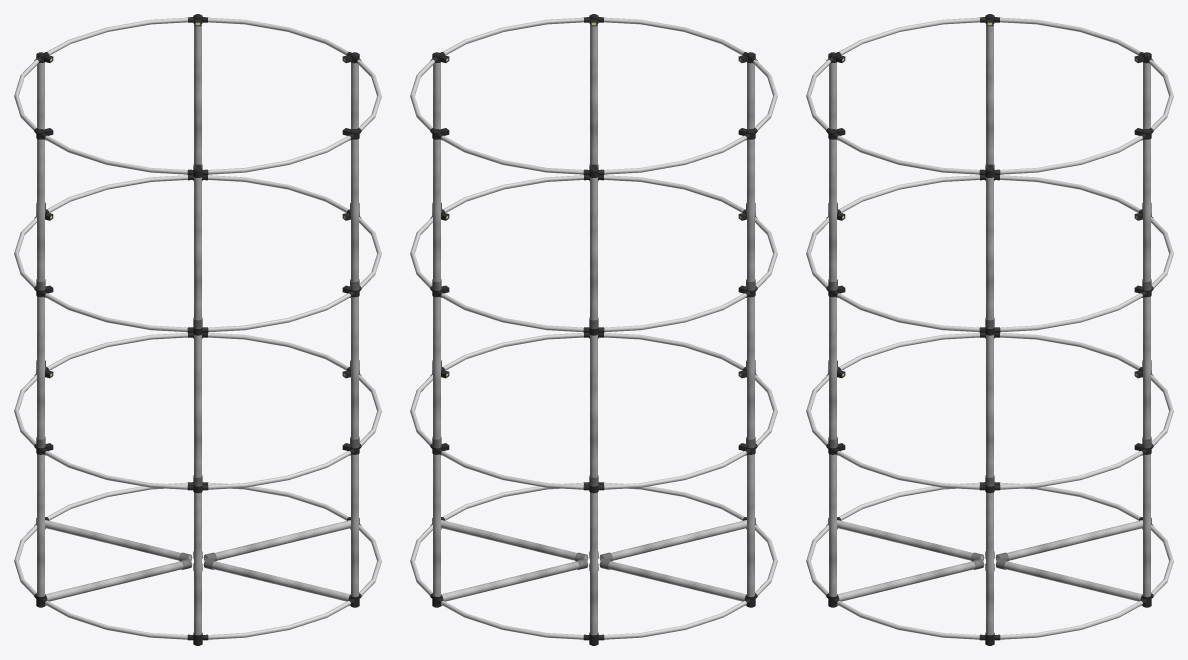
Rendered from SkydockExtended.FBX.
3 renders of one model, left to right at view 1: azimuth 30°, elevation 25°; view 2: azimuth 150°, elevation 25°; view 3: azimuth 270°, elevation 25°, orthographic.
Parts seen in each view (by area): view 1: Torus001, Torus002, Torus003, Torus004, Cylinder069, Cylinder002, Cylinder078, Cylinder096, Cylinder099, Cylinder101, Cylinder089, Cylinder081 (+8 smaller); view 2: Torus001, Torus002, Torus003, Torus004, Cylinder002, Cylinder087, Cylinder060, Cylinder078, Cylinder071, Cylinder081, Cylinder083, Cylinder063 (+8 smaller); view 3: Torus001, Torus002, Torus003, Torus004, Cylinder087, Cylinder069, Cylinder096, Cylinder060, Cylinder009, Cylinder099, Cylinder101, Cylinder063 (+8 smaller).
Part boxes in pixels (box(x1,y1,x2,y2)): Torus001: box(14, 17, 381, 174); Torus002: box(14, 175, 381, 332); Torus003: box(14, 333, 381, 489); Torus004: box(14, 482, 381, 639); Cylinder069: box(45, 520, 191, 560); Cylinder002: box(204, 520, 350, 560); Cylinder078: box(45, 561, 183, 601); Cylinder096: box(212, 561, 350, 601); Cylinder099: box(351, 139, 358, 281); Cylinder101: box(351, 454, 358, 596); Cylinder089: box(194, 335, 201, 477); Cylinder081: box(37, 139, 44, 281); Torus001: box(410, 17, 777, 174); Torus002: box(410, 175, 777, 332); Torus003: box(410, 333, 777, 489); Torus004: box(410, 482, 777, 639); Cylinder002: box(441, 520, 587, 560); Cylinder087: box(600, 520, 746, 560); Cylinder060: box(441, 561, 579, 601); Cylinder078: box(608, 561, 746, 601); Cylinder071: box(590, 335, 597, 477); Cylinder081: box(747, 139, 754, 281); Cylinder083: box(747, 454, 754, 596); Cylinder063: box(433, 139, 440, 281); Torus001: box(806, 17, 1173, 174); Torus002: box(806, 175, 1173, 332); Torus003: box(806, 333, 1173, 489); Torus004: box(806, 482, 1173, 639); Cylinder087: box(837, 520, 983, 560); Cylinder069: box(996, 520, 1142, 560); Cylinder096: box(837, 561, 975, 601); Cylinder060: box(1004, 561, 1142, 601); Cylinder009: box(986, 335, 993, 477); Cylinder099: box(829, 139, 836, 281); Cylinder101: box(829, 454, 836, 596); Cylinder063: box(1143, 139, 1150, 281).
Size of what is drawn, in the model's own units: 11.78 by 11.65 by 16.64.
2 materials, 2 textured.
